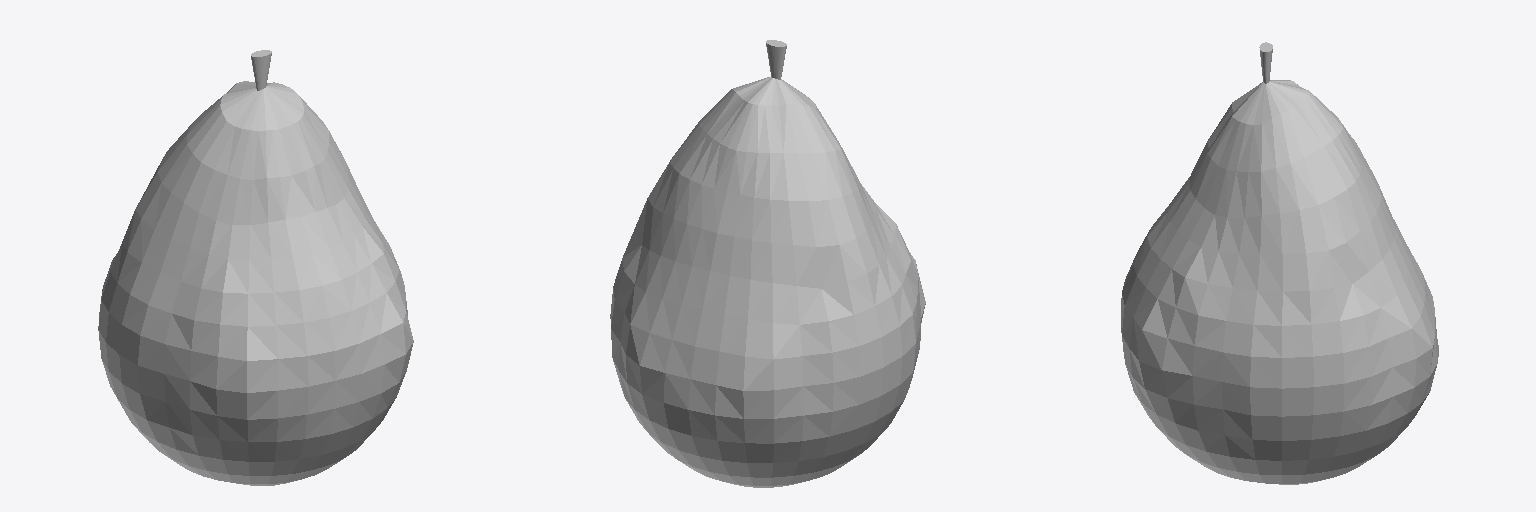
Rendered from pear.obj.
The picture shows the model from 3 angles: view 1: azimuth 30°, elevation 25°; view 2: azimuth 150°, elevation 25°; view 3: azimuth 270°, elevation 25°; orthographic projection.
Visible parts, largest first — view 1: Cone; view 2: Cone; view 3: Cone.
Part boxes in pixels (left/top/right/bottom): Cone: left=98, top=50, right=413, bottom=485; Cone: left=610, top=40, right=925, bottom=487; Cone: left=1121, top=42, right=1438, bottom=484.
Bounding box in the file's own units: 1.73 × 2.54 × 1.76.